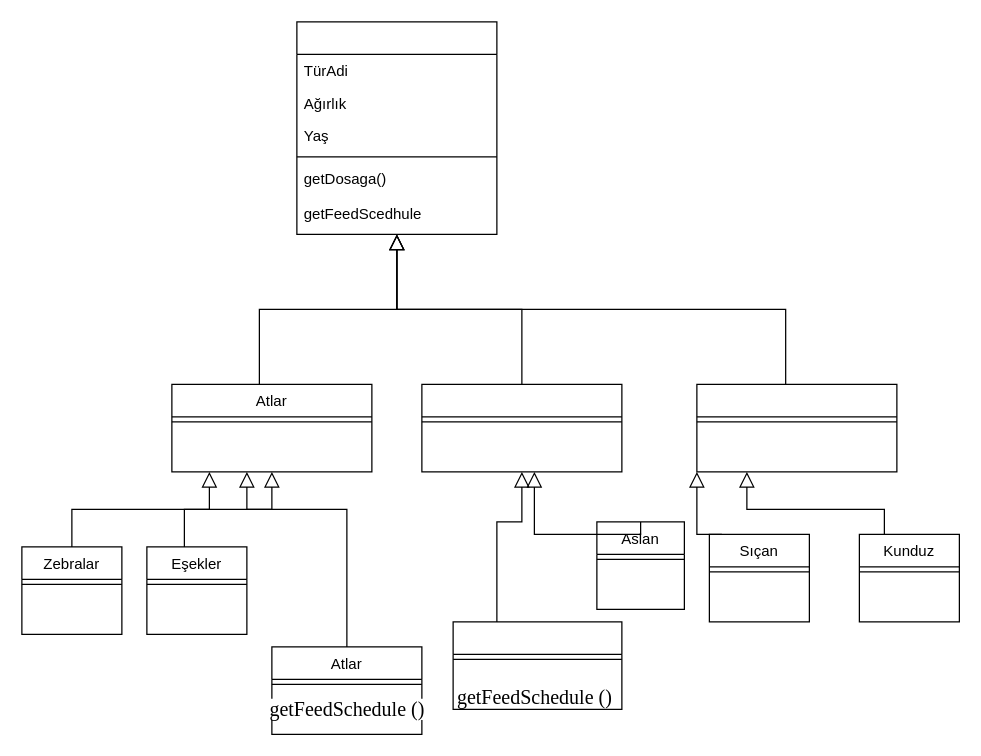
The diagram is 981 pixels wide and 756 high, and some of its shapes have lost their labels. The box of each missing label's shape, as (x1, y1, x2, y2) in pixels:
Hayvanlar: (296, 21, 497, 234)
Kaplan: (452, 621, 622, 709)
Kedigiller: (421, 383, 622, 472)
Kemirgenler: (696, 383, 897, 472)
